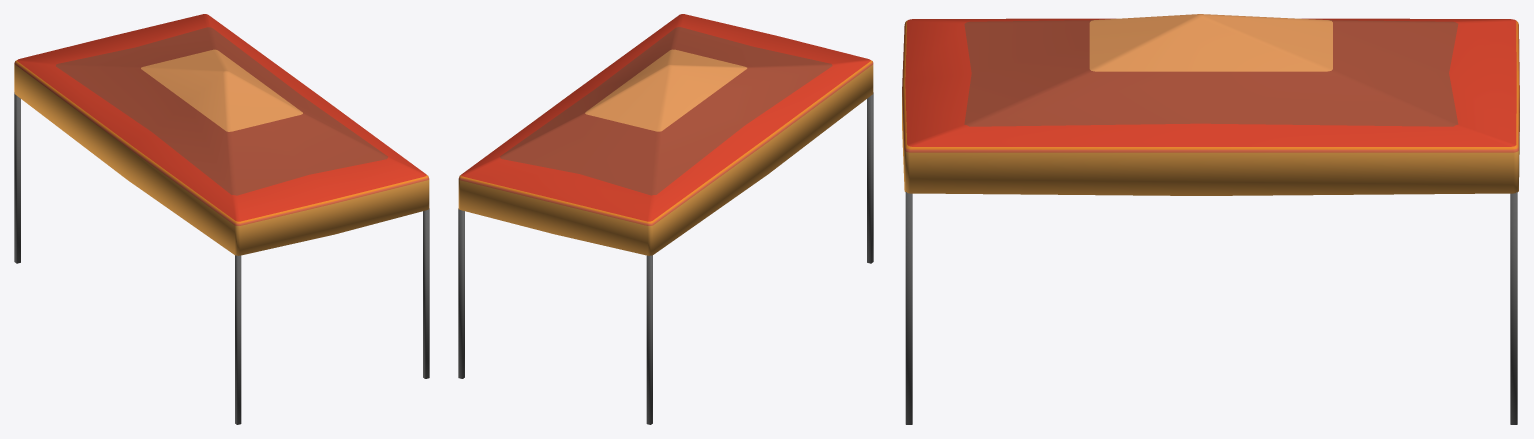
Rendered from Canopy_02.glb.
3 views of the same model, side by side, from view 1: azimuth 30°, elevation 25°; view 2: azimuth 150°, elevation 25°; view 3: azimuth 270°, elevation 25° (orthographic). The views are drawn at different scales.
Visible parts, largest first — view 1: Canopy_02; view 2: Canopy_02; view 3: Canopy_02.
Boxes of the visible parts, box(x1,y1,x2,y2) form: Canopy_02: box(14, 14, 429, 424); Canopy_02: box(458, 14, 873, 424); Canopy_02: box(902, 14, 1519, 424).
Size of what is drawn, in the model's own units: 4.22 by 5.18 by 8.4.
Materials: 1 (1 with a texture image).
